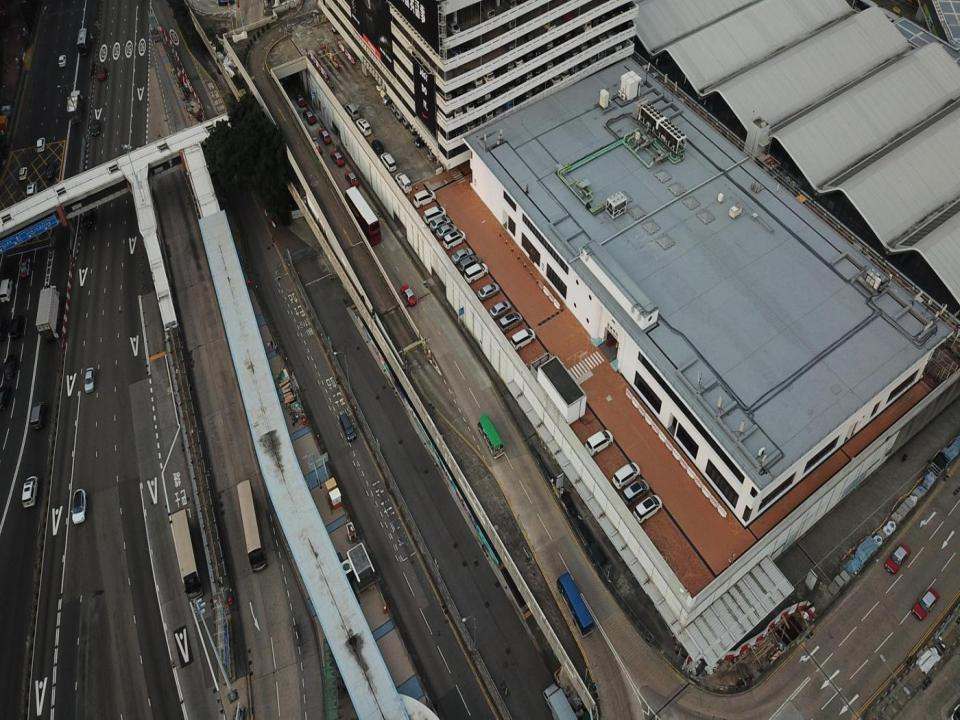bus: (171, 507, 203, 601), (236, 479, 266, 572), (557, 572, 593, 638), (345, 185, 381, 246), (477, 413, 504, 458), (77, 28, 90, 56)
car: (912, 586, 940, 620), (885, 543, 911, 574), (414, 127, 442, 148), (71, 489, 87, 525), (376, 72, 398, 92), (477, 282, 499, 302), (400, 284, 418, 306), (451, 248, 474, 265), (488, 301, 511, 318), (456, 75, 474, 96), (571, 50, 589, 71), (3, 354, 18, 379), (429, 216, 451, 233), (605, 1, 627, 18), (449, 78, 465, 100), (590, 9, 610, 26), (597, 6, 617, 23), (550, 48, 570, 65), (437, 124, 454, 144), (436, 224, 457, 240), (443, 19, 461, 36), (614, 33, 631, 51), (487, 61, 503, 80), (0, 384, 12, 409), (499, 35, 517, 51), (506, 53, 524, 69), (84, 366, 94, 393), (547, 51, 561, 70), (330, 149, 345, 166), (518, 28, 535, 43), (446, 43, 462, 58), (528, 42, 542, 59), (345, 171, 359, 187), (457, 38, 473, 52), (498, 77, 514, 91), (292, 93, 307, 107), (459, 98, 474, 112), (19, 258, 30, 277), (551, 31, 563, 48), (303, 109, 316, 124), (45, 162, 56, 179), (282, 77, 296, 90), (308, 140, 322, 153), (477, 88, 491, 101), (0, 318, 8, 339), (319, 129, 331, 143), (564, 46, 578, 58), (490, 82, 501, 97), (36, 137, 46, 152), (372, 139, 382, 154), (92, 119, 100, 135), (18, 167, 27, 180), (98, 66, 106, 80), (58, 55, 66, 67)
truck: (35, 285, 62, 341), (542, 683, 577, 719), (66, 90, 84, 124)
van: (632, 494, 662, 523), (585, 428, 614, 457), (620, 479, 650, 506), (612, 461, 640, 489), (396, 98, 423, 121), (510, 328, 536, 351), (402, 108, 431, 128), (21, 475, 39, 507), (427, 140, 453, 162), (409, 116, 438, 135), (498, 312, 522, 334), (464, 262, 488, 283), (339, 412, 356, 441), (443, 229, 466, 250), (458, 254, 482, 274), (391, 96, 416, 115), (30, 401, 46, 430), (475, 0, 495, 23), (423, 206, 446, 225), (473, 104, 493, 125), (414, 189, 436, 208), (381, 88, 405, 105), (571, 16, 591, 36), (393, 172, 412, 193), (474, 66, 495, 85), (380, 81, 402, 98), (464, 69, 483, 88), (436, 103, 453, 124), (458, 115, 477, 133), (516, 63, 533, 83), (9, 316, 23, 340), (434, 86, 452, 104), (380, 152, 396, 172), (546, 68, 562, 88), (0, 278, 13, 302), (355, 118, 372, 136), (497, 94, 514, 112), (496, 58, 515, 74), (535, 37, 554, 53), (504, 72, 523, 88), (596, 42, 612, 61), (582, 48, 597, 68), (599, 25, 616, 42), (344, 102, 360, 120), (618, 16, 634, 34), (528, 58, 542, 78), (566, 56, 579, 77), (499, 14, 516, 30), (605, 39, 622, 55), (557, 26, 572, 44), (448, 100, 463, 118), (470, 89, 485, 107), (579, 33, 598, 47), (527, 79, 541, 98), (540, 15, 556, 31), (559, 7, 575, 23), (583, 12, 599, 28), (517, 50, 534, 65), (331, 19, 347, 34), (555, 66, 570, 82), (588, 47, 604, 62), (567, 22, 581, 39), (488, 99, 502, 116), (499, 0, 517, 13), (449, 120, 462, 138), (517, 86, 532, 101), (573, 38, 589, 52), (538, 58, 553, 71), (620, 0, 636, 12), (595, 30, 606, 47), (26, 182, 37, 198)
